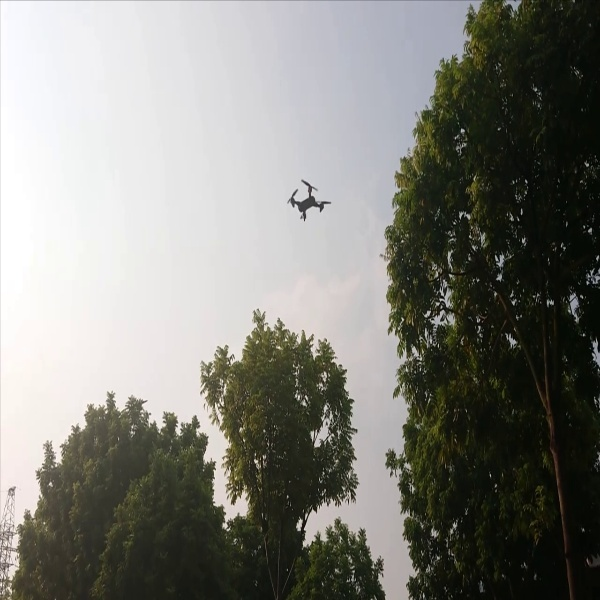drone: (280, 176, 334, 231)
